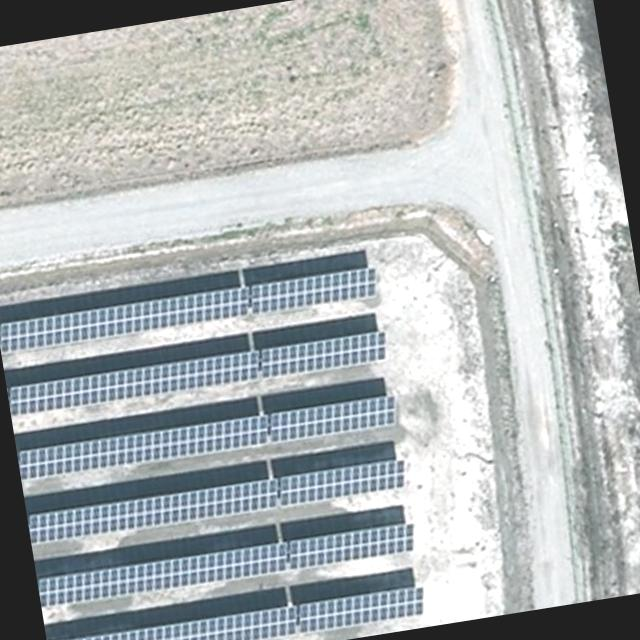solar: (27, 473, 285, 548), (7, 346, 264, 420), (37, 538, 294, 612), (16, 410, 272, 483), (0, 283, 254, 356), (47, 602, 303, 640), (264, 391, 402, 448), (282, 518, 419, 573), (272, 455, 411, 509), (291, 582, 428, 636), (245, 263, 382, 317), (255, 328, 390, 382)
